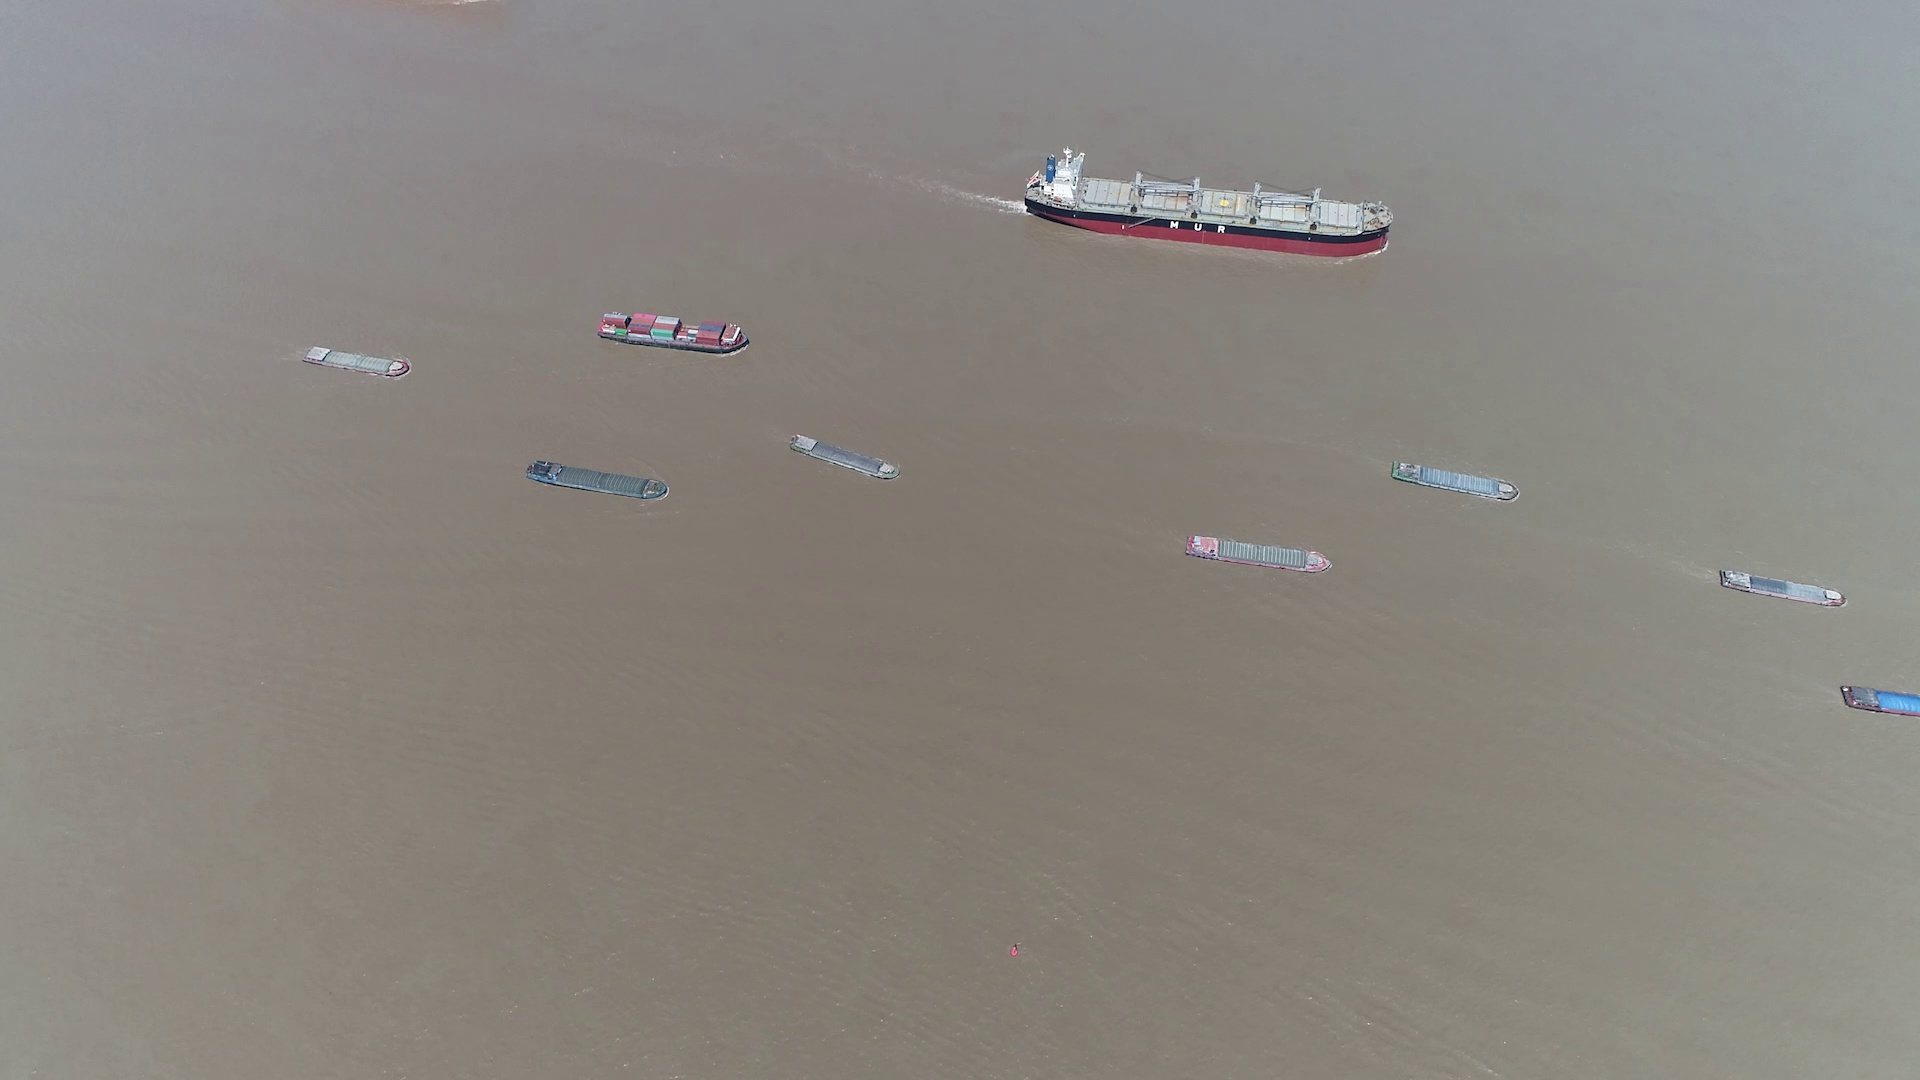ship: (1027, 156, 1391, 255), (597, 311, 752, 352), (526, 460, 671, 501), (1187, 534, 1331, 574), (1390, 460, 1518, 502), (789, 434, 899, 481), (1716, 567, 1847, 607), (301, 344, 411, 377), (1840, 683, 1920, 717)
